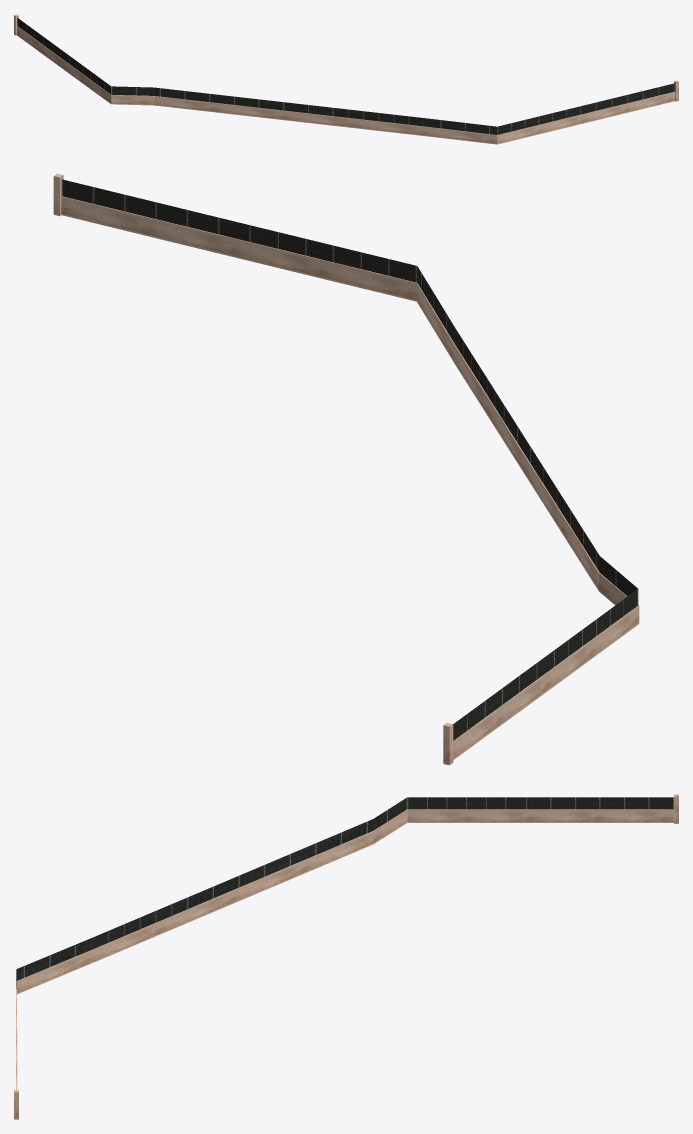
Rendered from vegasnnewfence2c.obj.
The picture shows the model from 3 angles, top to bottom: view 1: azimuth 30°, elevation 25°; view 2: azimuth 150°, elevation 25°; view 3: azimuth 270°, elevation 25°; orthographic projection. The views are drawn at different scales.
Visible parts, largest first — view 1: vegasNnewfence2c; view 2: vegasNnewfence2c; view 3: vegasNnewfence2c.
Part boxes in pixels (x1=…): vegasNnewfence2c: x1=14, y1=14, x2=678, y2=144; vegasNnewfence2c: x1=53, y1=173, x2=639, y2=765; vegasNnewfence2c: x1=14, y1=794, x2=678, y2=1119.
Bounding box in the file's own units: 107 × 4.6 × 101.
2 materials, 2 textured.
